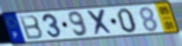0: (116, 7, 139, 34)
3: (40, 13, 65, 39)
8: (139, 6, 159, 33)
9: (67, 10, 89, 37)
B: (18, 14, 45, 41)
X: (85, 8, 115, 37)
